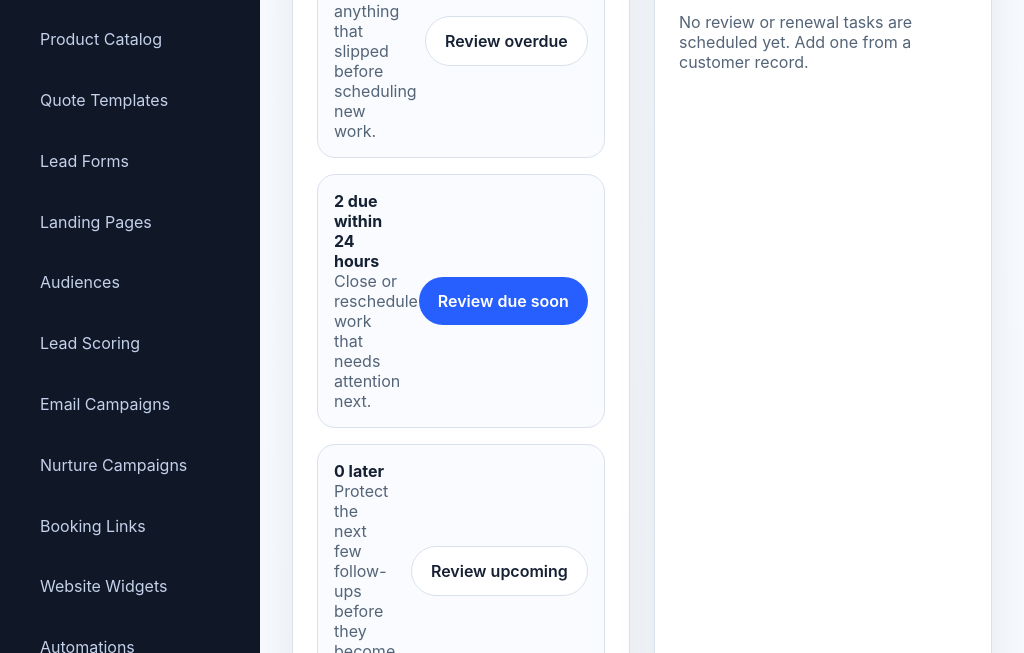
Test: AppRouter › links dashboard task actions into filtered task views
The image size is (1024, 653).
(page scrolled)
Click the button "Review due soon": (503, 301) x1=419 y1=277 x2=588 y2=325
(page scrolled)
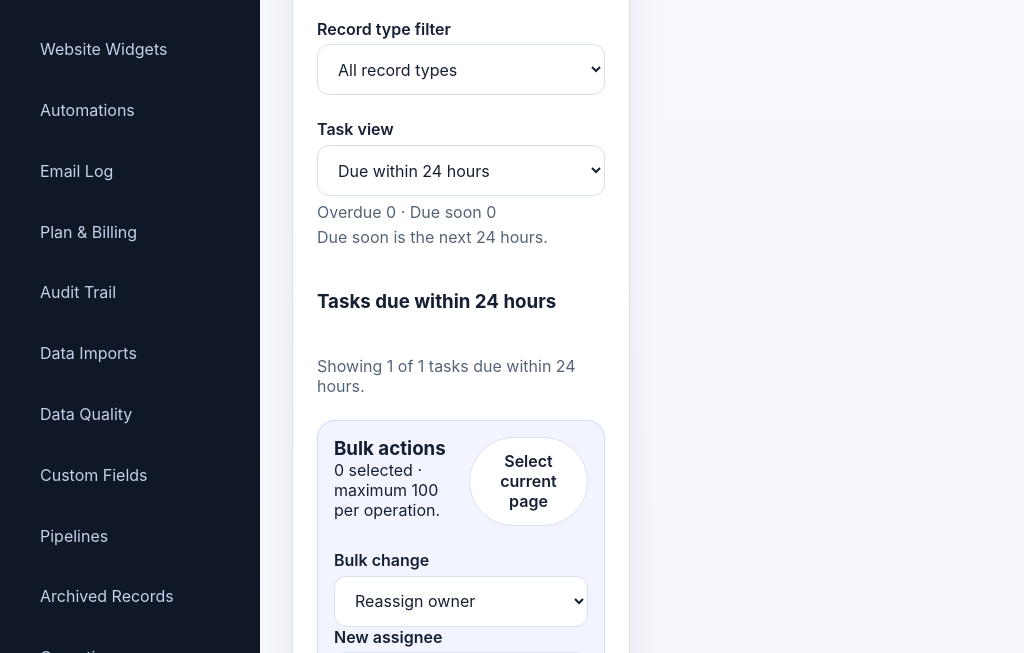
Result: the heading "Tasks due within 24 hours" is shown at x1=317 y1=290 x2=556 y2=313
